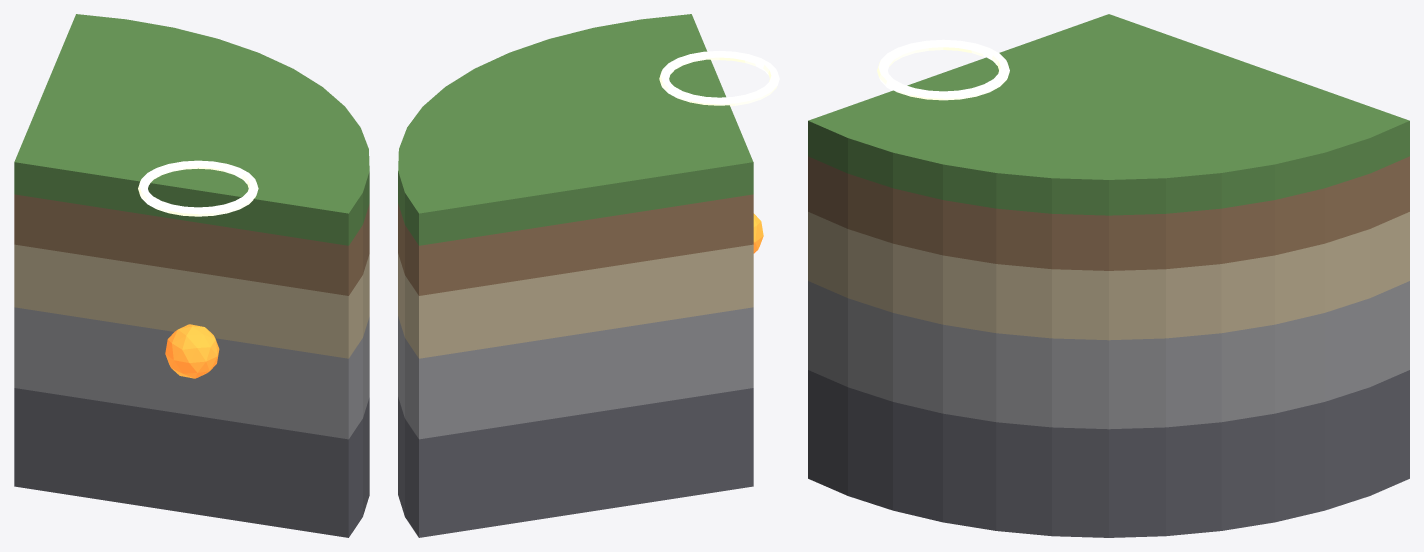
File: EarthCrossSection_Q4W2.glb
The picture shows the model from 3 angles, left to right: view 1: azimuth 30°, elevation 25°; view 2: azimuth 150°, elevation 25°; view 3: azimuth 270°, elevation 25°; orthographic projection. The views are drawn at different scales.
Parts seen in each view (by area): view 1: TopSoil, DeepRock, Bedrock, Sandstone, Subsoil, EpicenterRing, FocusPoint; view 2: TopSoil, DeepRock, Bedrock, Sandstone, Subsoil, EpicenterRing; view 3: TopSoil, DeepRock, Bedrock, Sandstone, Subsoil, EpicenterRing.
Part boxes in pixels (x1=…): TopSoil: x1=14, y1=14, x2=369, y2=245; DeepRock: x1=14, y1=388, x2=369, y2=537; Bedrock: x1=14, y1=307, x2=369, y2=439; Sandstone: x1=14, y1=244, x2=369, y2=358; Subsoil: x1=14, y1=194, x2=369, y2=295; EpicenterRing: x1=138, y1=160, x2=258, y2=216; FocusPoint: x1=165, y1=324, x2=219, y2=378; TopSoil: x1=398, y1=14, x2=753, y2=245; DeepRock: x1=398, y1=388, x2=753, y2=537; Bedrock: x1=398, y1=307, x2=753, y2=439; Sandstone: x1=398, y1=244, x2=753, y2=358; Subsoil: x1=398, y1=194, x2=753, y2=295; EpicenterRing: x1=659, y1=51, x2=779, y2=106; TopSoil: x1=808, y1=14, x2=1409, y2=215; DeepRock: x1=808, y1=370, x2=1409, y2=537; Bedrock: x1=808, y1=281, x2=1409, y2=429; Sandstone: x1=808, y1=212, x2=1409, y2=340; Subsoil: x1=808, y1=156, x2=1409, y2=270; EpicenterRing: x1=877, y1=39, x2=1009, y2=100.
Bounding box in the file's own units: 0.18 × 0.1845 × 0.2758.
